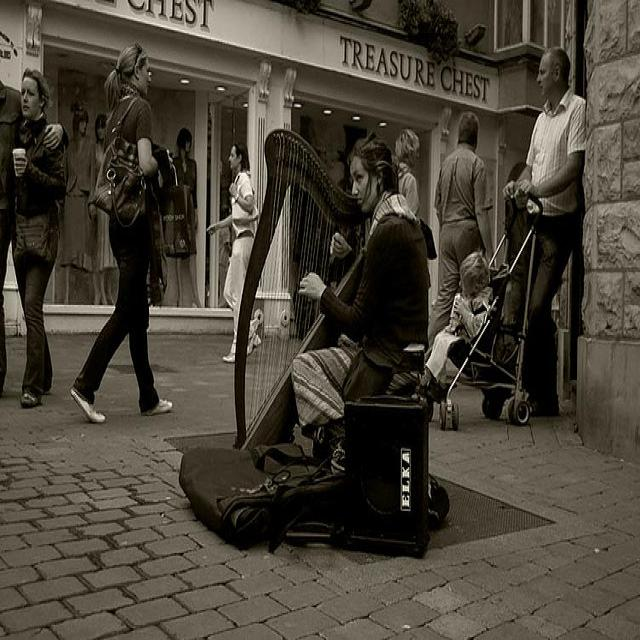harp: (230, 129, 374, 458)
